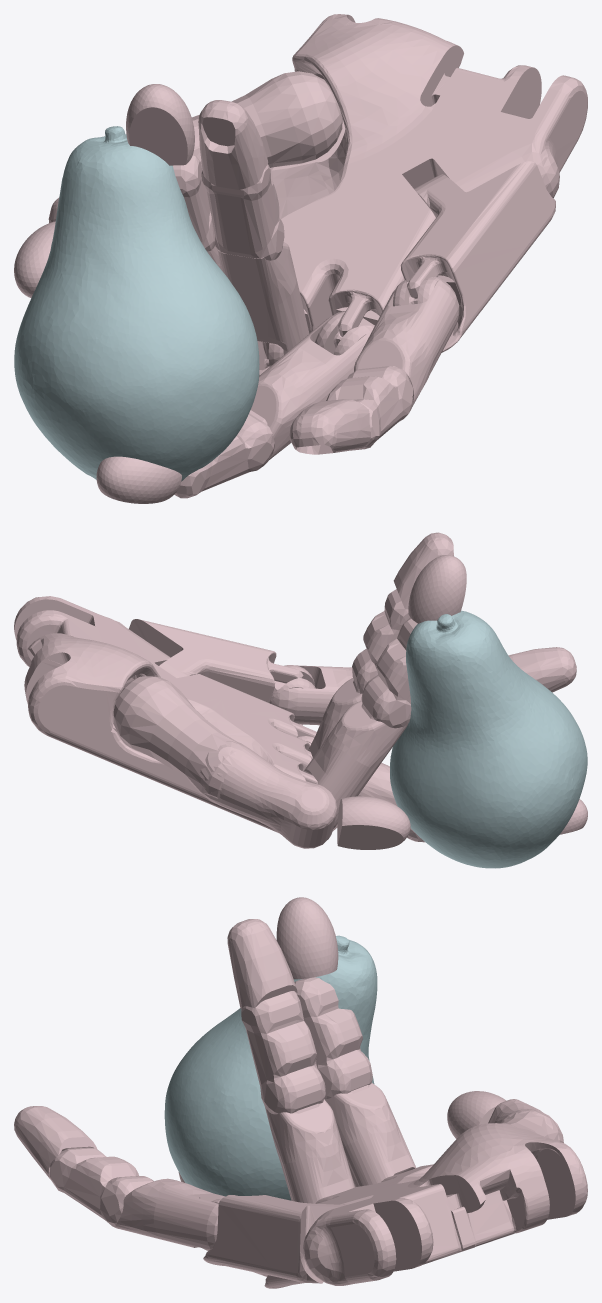
The model's file is grasp_7.glb.
3 views of the same model, one above another, from view 1: azimuth 30°, elevation 25°; view 2: azimuth 150°, elevation 25°; view 3: azimuth 270°, elevation 25° (orthographic). The views are drawn at different scales.
Parts seen in each view (by area): view 1: world; view 2: world; view 3: world.
Boxes of the visible parts, left/top/right/bottom form: world: left=14, top=14, right=587, bottom=503; world: left=14, top=532, right=587, bottom=868; world: left=14, top=897, right=587, bottom=1288.
Size of the model in its own units: 0.1981 by 0.1162 by 0.1773.
